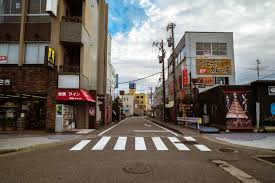strada: (93, 116, 178, 134)
striscie pedonali: (66, 134, 213, 152)
